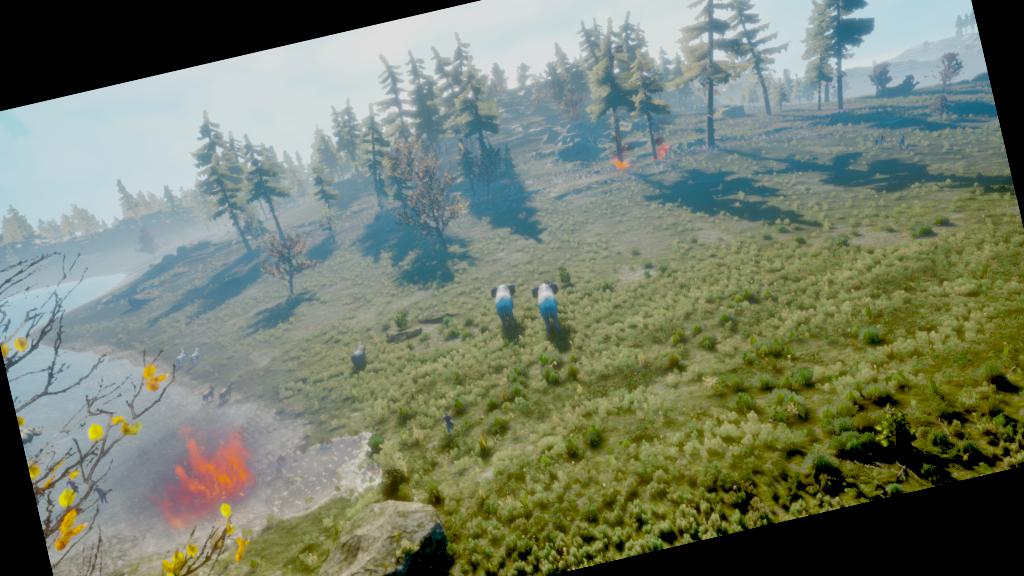Fire: (153, 434, 275, 524), (605, 150, 639, 181), (652, 140, 673, 163)
elephant: (477, 262, 533, 348), (524, 270, 568, 340)
hippopotamus: (334, 324, 389, 388)
human: (428, 392, 462, 443)
lion: (210, 372, 240, 411), (193, 380, 221, 407)
zebra: (166, 338, 194, 368), (184, 339, 208, 367)
